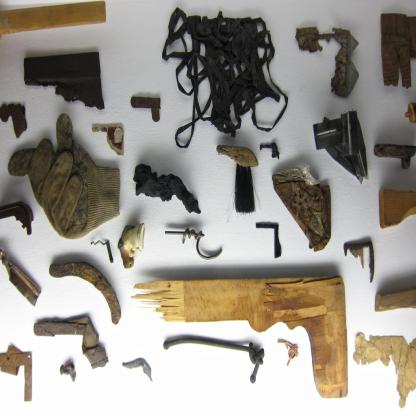Handgun: (0, 200, 34, 235)
